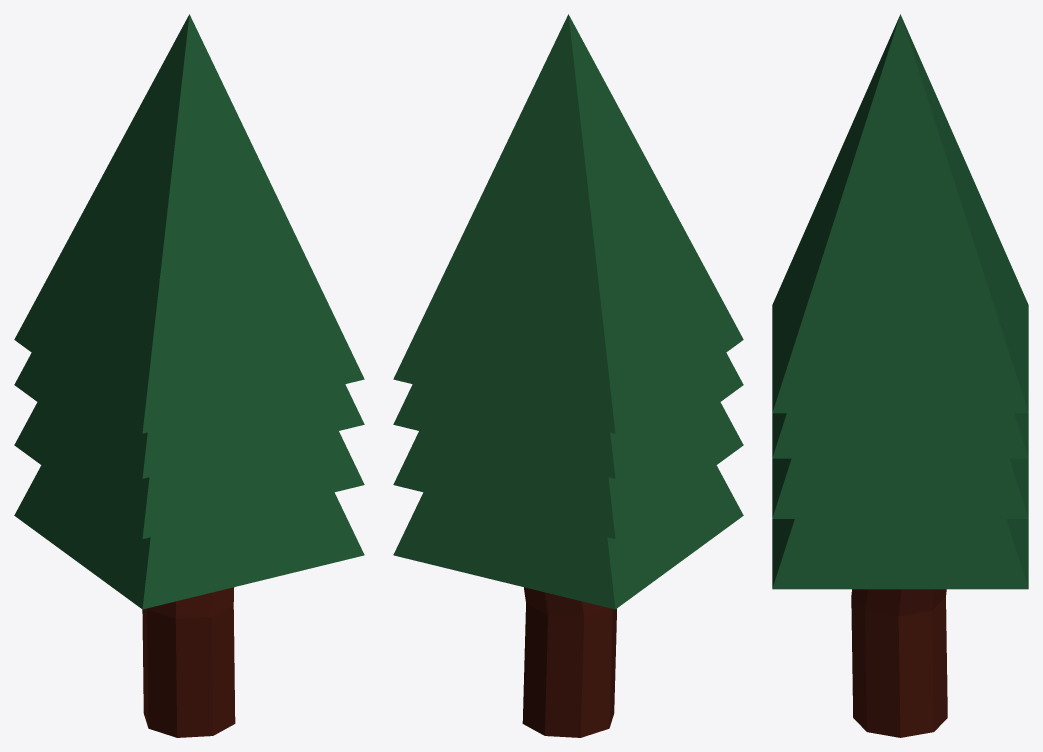
File: TREE3.fbx
3 views of the same model, side by side, from view 1: azimuth 30°, elevation 25°; view 2: azimuth 150°, elevation 25°; view 3: azimuth 270°, elevation 25° (orthographic).
Parts seen in each view (by area): view 1: 큐브.003, 큐브, 큐브.001, 큐브.002, 실린더; view 2: 큐브.003, 큐브, 큐브.001, 큐브.002, 실린더; view 3: 큐브.003, 큐브, 큐브.001, 실린더, 큐브.002.
Boxes of the visible parts, x1,y1,x2,y2 form: 큐브.003: (14, 14, 364, 433); 큐브: (14, 465, 364, 609); 큐브.001: (14, 402, 364, 538); 큐브.002: (14, 353, 364, 478); 실린더: (142, 587, 235, 737); 큐브.003: (393, 14, 743, 433); 큐브: (393, 465, 743, 609); 큐브.001: (393, 402, 743, 538); 큐브.002: (393, 353, 743, 478); 실린더: (522, 587, 616, 737); 큐브.003: (772, 14, 1028, 413); 큐브: (772, 519, 1028, 589); 큐브.001: (772, 458, 1028, 518); 실린더: (851, 589, 947, 737); 큐브.002: (772, 413, 1028, 458).
Bounding box in the file's own units: 542 × 1641 × 542.
